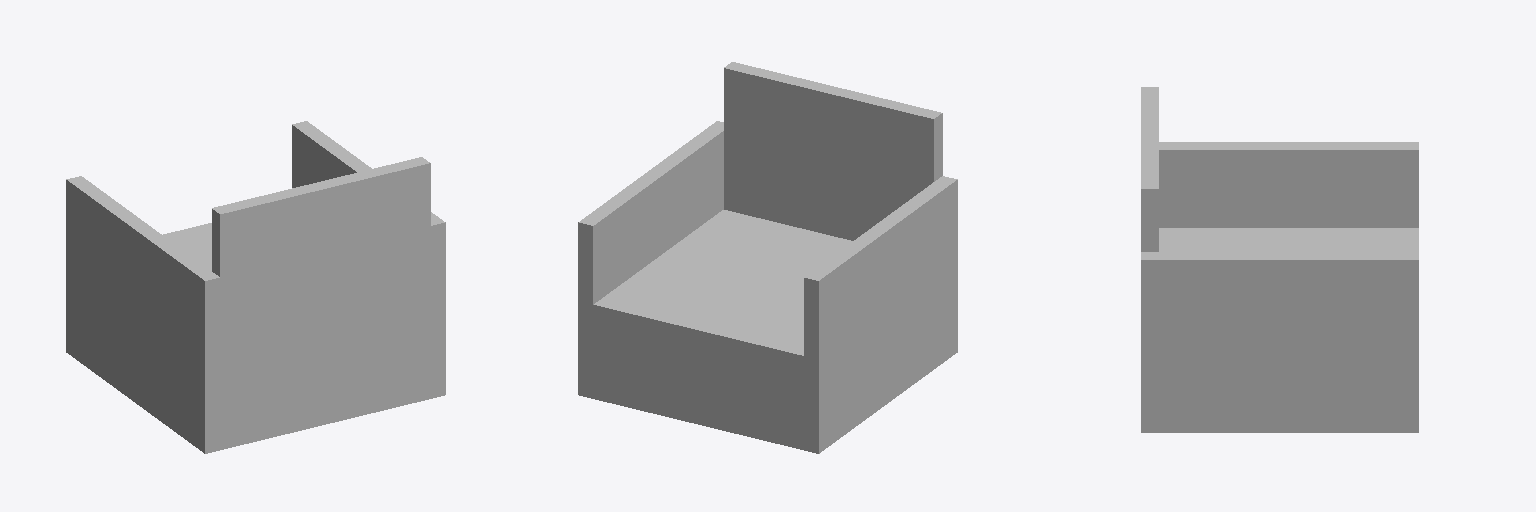
The model's file is sofa.obj.
The picture shows the model from 3 angles: view 1: azimuth 30°, elevation 25°; view 2: azimuth 150°, elevation 25°; view 3: azimuth 270°, elevation 25°; orthographic projection.
Parts seen in each view (by area): view 1: cube; view 2: cube; view 3: cube.
Part boxes in pixels (bbox=[...]): cube: bbox=[66, 121, 445, 453]; cube: bbox=[578, 62, 957, 453]; cube: bbox=[1141, 87, 1418, 432].
Size of the model in its own units: 1 by 0.9375 by 1.